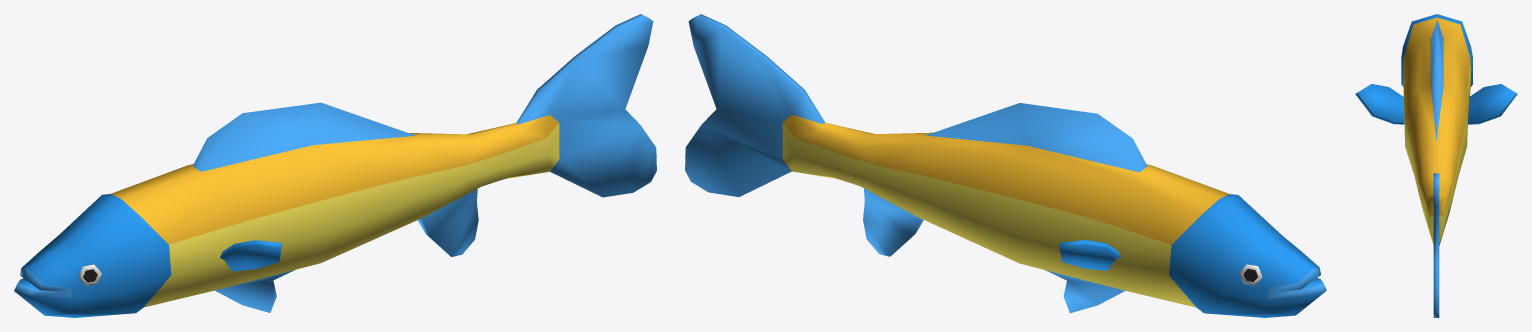
File: Fish_028.glb
The picture shows the model from 3 angles, left to right: view 1: azimuth 30°, elevation 25°; view 2: azimuth 150°, elevation 25°; view 3: azimuth 270°, elevation 25°; orthographic projection. The views are drawn at different scales.
Visible parts, largest first — view 1: Fish_028; view 2: Fish_028; view 3: Fish_028.
Part boxes in pixels (left/top/right/bottom): Fish_028: left=14, top=14, right=656, bottom=317; Fish_028: left=685, top=14, right=1326, bottom=317; Fish_028: left=1355, top=14, right=1517, bottom=317.
Bounding box in the file's own units: 1.28 × 0.3953 × 0.3439.
Materials: 1 (1 with a texture image).
